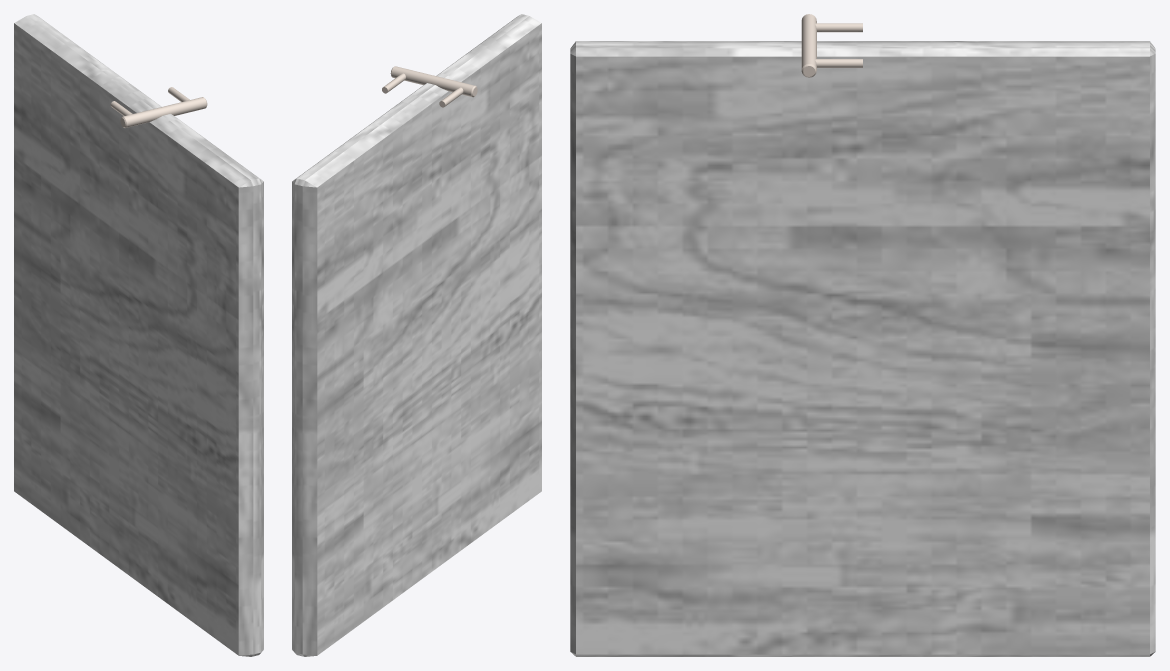
File: Cabinet_2583d34e.obj
3 views of the same model, side by side, from view 1: azimuth 30°, elevation 25°; view 2: azimuth 150°, elevation 25°; view 3: azimuth 270°, elevation 25° (orthographic). The views are drawn at different scales.
Parts seen in each view (by area): view 1: Mesh_43d4bff9, handle_1_76mm_01_d86e9b96; view 2: Mesh_43d4bff9, handle_1_76mm_01_d86e9b96; view 3: Mesh_43d4bff9, handle_1_76mm_01_d86e9b96.
Boxes of the visible parts, x1,y1,x2,y2 form: Mesh_43d4bff9: [14, 14, 263, 656]; handle_1_76mm_01_d86e9b96: [110, 87, 207, 127]; Mesh_43d4bff9: [292, 14, 541, 656]; handle_1_76mm_01_d86e9b96: [382, 66, 477, 107]; Mesh_43d4bff9: [570, 41, 1155, 656]; handle_1_76mm_01_d86e9b96: [801, 14, 862, 77].
Bounding box in the file's own units: 0.076 × 0.4263 × 0.3675.
